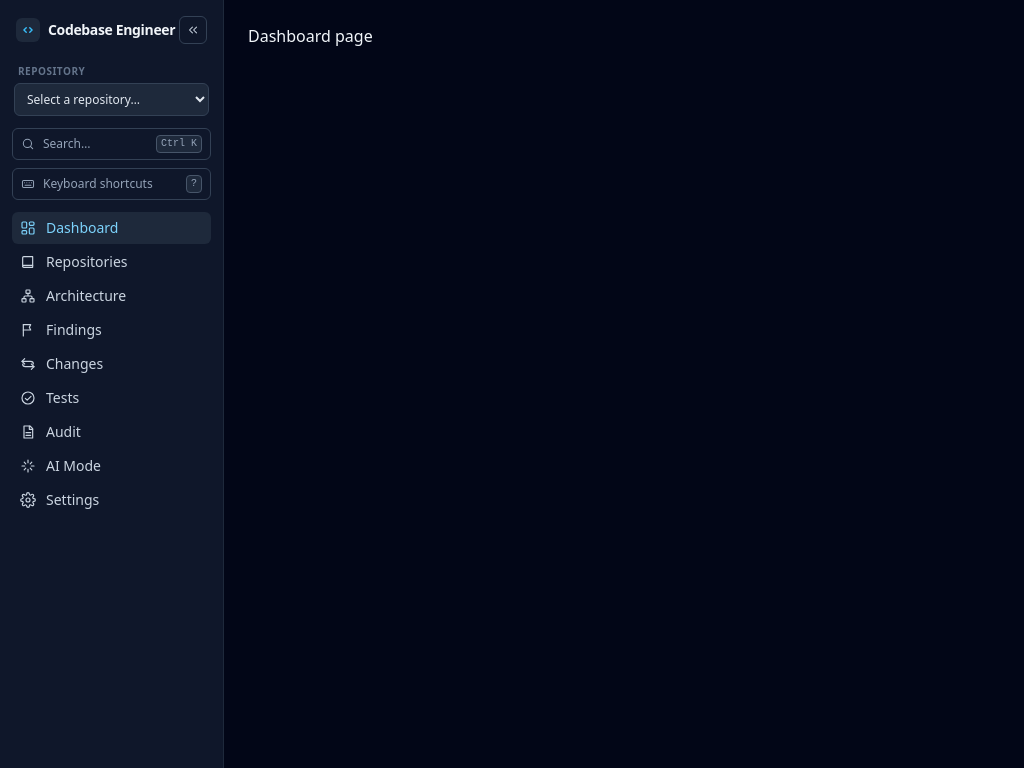
Test: CommandPalette (Ctrl/Cmd+K) — the palette itself stays; only its theme-toggle command was removed › navigates to a page and closes
This screenshot has width=1024, height=768.
Type keys "{Control>}k{/Control}"
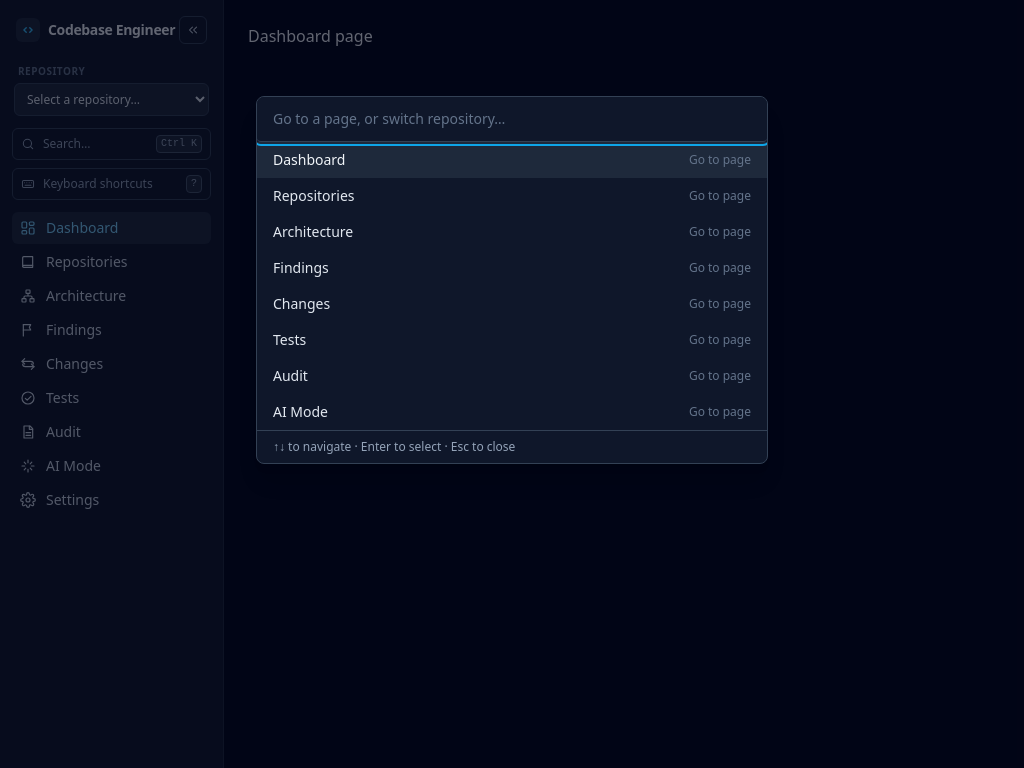
Type "repositories" into the field named "Command palette search" at (512, 120), box [257,97,767,142]
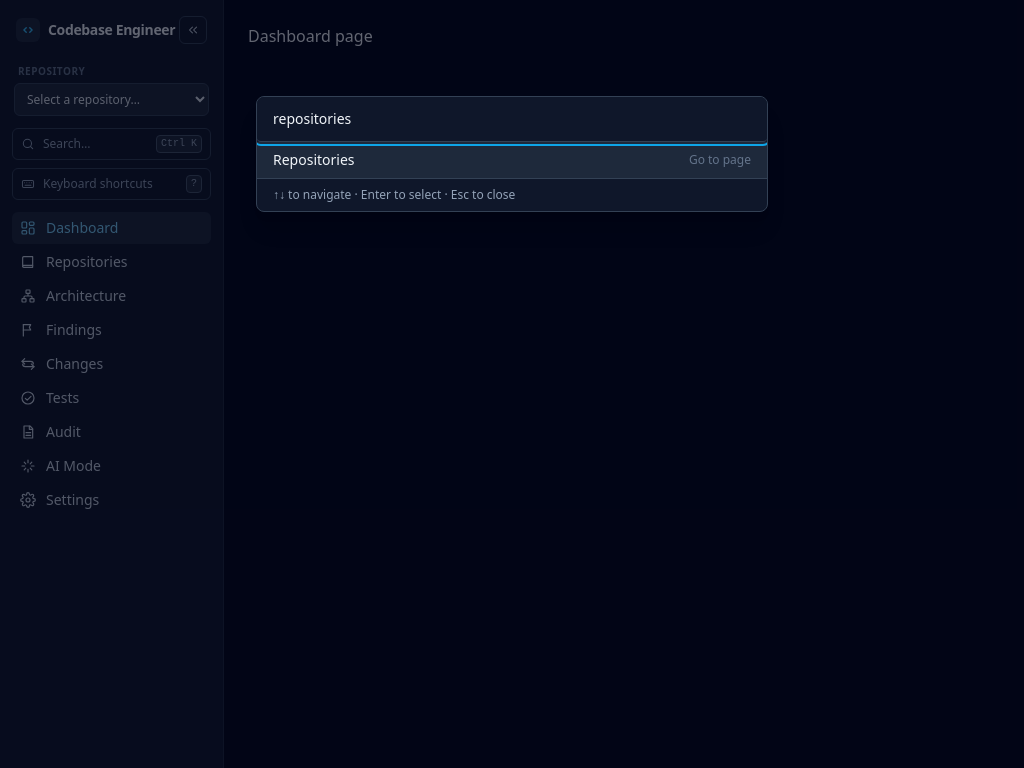
Click the text "Repositories" at (314, 160), box [273,150,354,170]
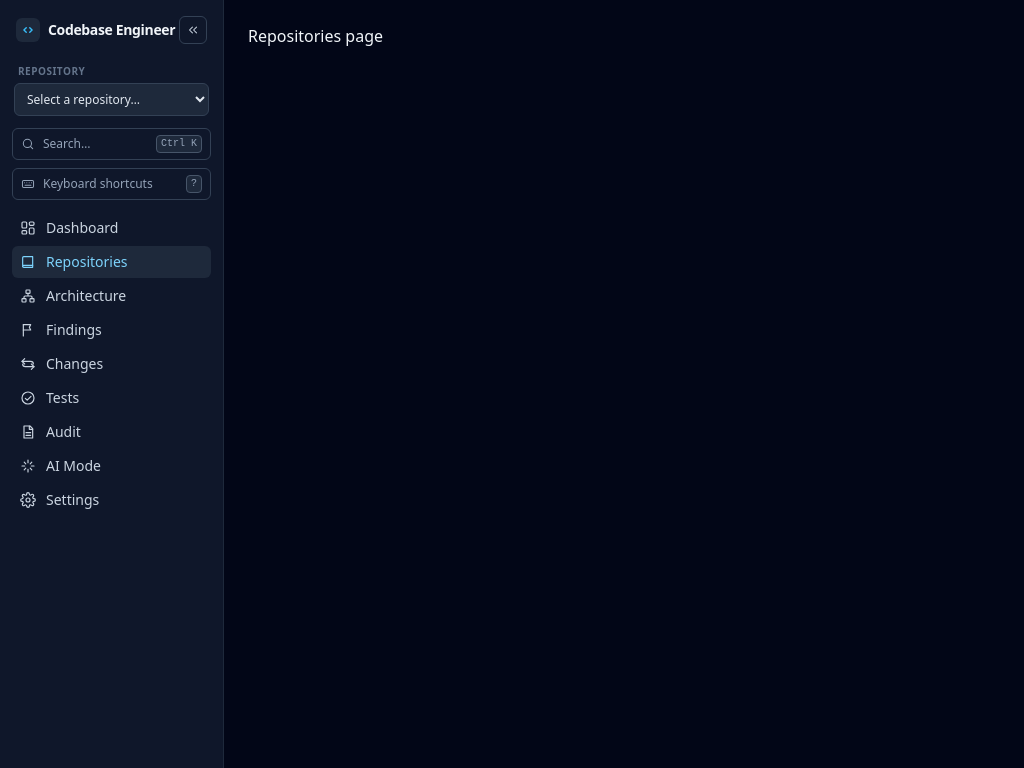
Result: the text "Repositories page" is shown at [248,25,383,47]
